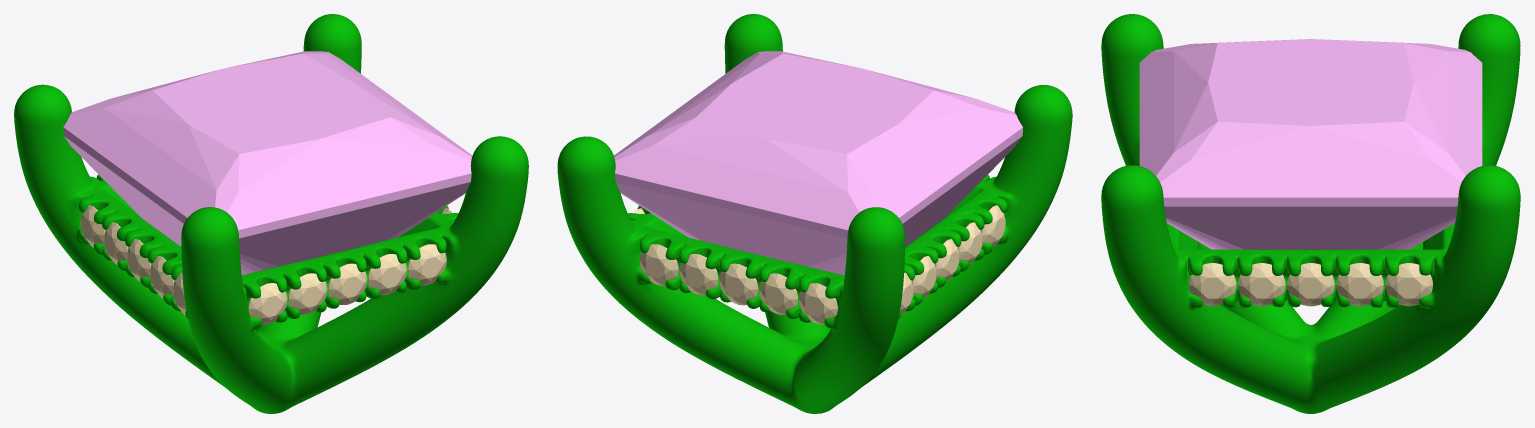
The picture shows the model from 3 angles, left to right: view 1: azimuth 30°, elevation 25°; view 2: azimuth 150°, elevation 25°; view 3: azimuth 270°, elevation 25°; orthographic projection. The views are drawn at different scales.
Parts seen in each view (by area): view 1: Metal01, Diamond_Princess, Diamond_Round.017, Diamond_Round.016, Diamond_Round.018, Diamond_Round.015, Diamond_Round.019, Diamond_Round.008, Diamond_Round.007, Diamond_Round.006, Diamond_Round.005; view 2: Metal01, Diamond_Princess, Diamond_Round.012, Diamond_Round.011, Diamond_Round.013, Diamond_Round.014, Diamond_Round.010, Diamond_Round.008, Diamond_Round.009, Diamond_Round.007, Diamond_Round.006; view 3: Diamond_Princess, Metal01, Diamond_Round.003, Diamond_Round.002, Diamond_Round.004, Diamond_Round, Diamond_Round.001.
Boxes of the visible parts, left/top/right/bottom form: Metal01: left=14, top=14, right=528, bottom=413; Diamond_Princess: left=63, top=51, right=472, bottom=275; Diamond_Round.017: left=328, top=263, right=367, bottom=304; Diamond_Round.016: left=368, top=254, right=406, bottom=295; Diamond_Round.018: left=288, top=273, right=327, bottom=314; Diamond_Round.015: left=408, top=244, right=446, bottom=285; Diamond_Round.019: left=248, top=283, right=287, bottom=324; Diamond_Round.008: left=149, top=256, right=174, bottom=298; Diamond_Round.007: left=126, top=239, right=151, bottom=281; Diamond_Round.006: left=103, top=222, right=128, bottom=264; Diamond_Round.005: left=80, top=205, right=105, bottom=247; Metal01: left=557, top=14, right=1072, bottom=413; Diamond_Princess: left=614, top=51, right=1022, bottom=275; Diamond_Round.012: left=719, top=263, right=758, bottom=305; Diamond_Round.011: left=759, top=273, right=797, bottom=314; Diamond_Round.013: left=679, top=254, right=718, bottom=295; Diamond_Round.014: left=639, top=244, right=678, bottom=285; Diamond_Round.010: left=799, top=283, right=837, bottom=324; Diamond_Round.008: left=958, top=222, right=982, bottom=264; Diamond_Round.009: left=981, top=205, right=1005, bottom=247; Diamond_Round.007: left=935, top=239, right=959, bottom=281; Diamond_Round.006: left=912, top=256, right=936, bottom=298; Diamond_Princess: left=1139, top=39, right=1482, bottom=249; Metal01: left=1101, top=14, right=1520, bottom=413; Diamond_Round.003: left=1336, top=263, right=1383, bottom=306; Diamond_Round.002: left=1238, top=263, right=1285, bottom=306; Diamond_Round.004: left=1385, top=263, right=1432, bottom=306; Diamond_Round: left=1287, top=263, right=1334, bottom=306; Diamond_Round.001: left=1189, top=263, right=1236, bottom=306.
Size of the model in its own units: 9.73 by 8.35 by 9.72.
